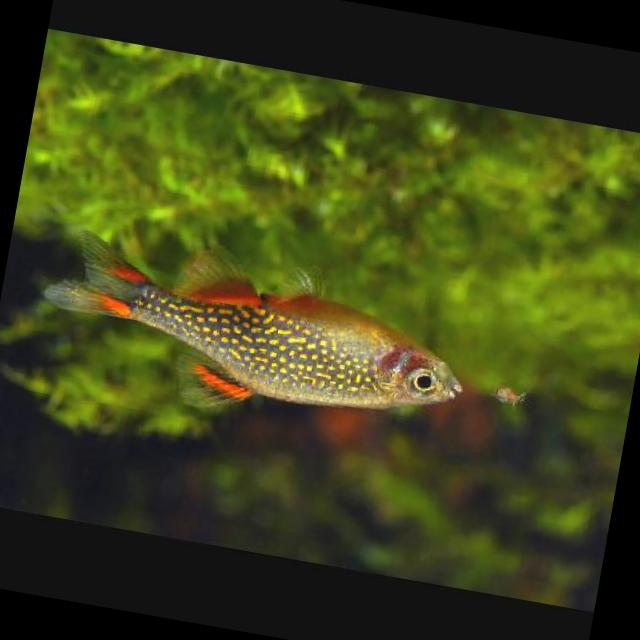ZebraFish: (28, 220, 483, 460)
